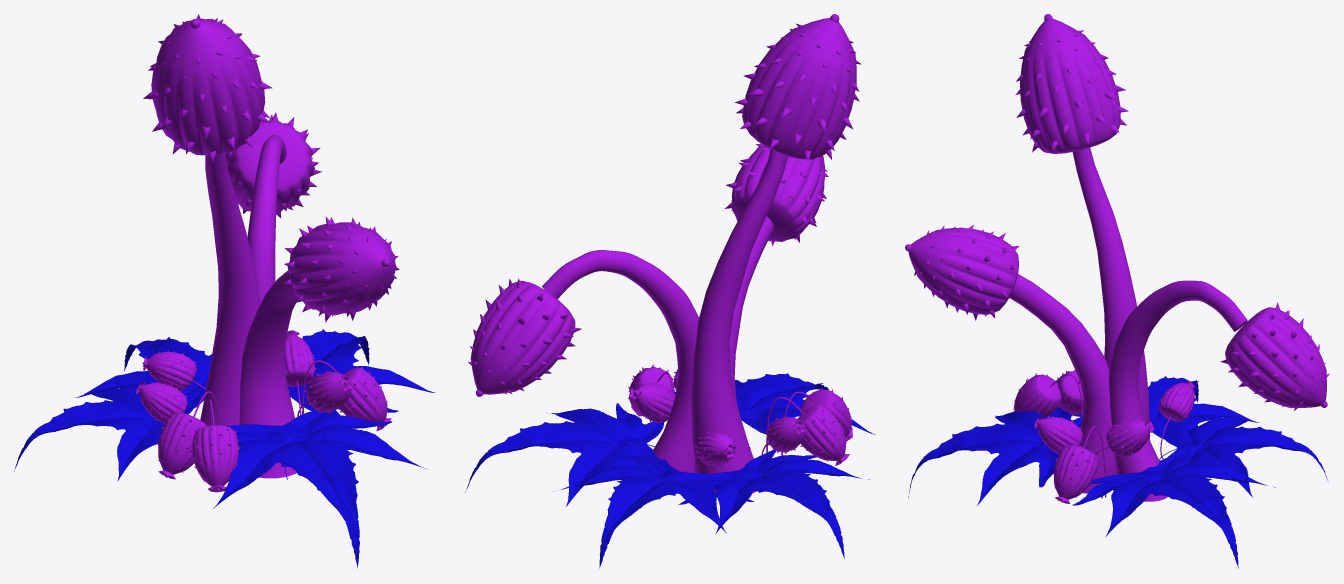
File: Juego_Isla (1).fbx
The picture shows the model from 3 angles, left to right: view 1: azimuth 30°, elevation 25°; view 2: azimuth 150°, elevation 25°; view 3: azimuth 270°, elevation 25°; orthographic projection. The views are drawn at different scales.
Parts seen in each view (by area): view 1: hola019, 71581444__13208P, hola007, hola020, hola005, hola000, 71581466__13489P, hola006, 71581466__13489P001, 71581444__13208P001, hola008, hola009 (+5 smaller); view 2: hola019, hola007, hola000, hola006, 71581466__13489P001, 71581466__13489P, hola020, 71581444__13208P001, 71581444__13208P, hola009, hola005, hola013 (+4 smaller); view 3: hola019, hola000, hola020, hola006, hola005, 71581466__13489P001, hola007, 71581444__13208P, 71581444__13208P001, 71581466__13489P, hola011, hola008 (+4 smaller).
Part boxes in pixels (<box>): hola019: <box>143,14,272,163</box>; 71581444__13208P: <box>213,410,427,568</box>; hola007: <box>200,153,260,449</box>; hola020: <box>282,217,399,322</box>; hola005: <box>239,270,297,478</box>; hola000: <box>225,112,321,218</box>; 71581466__13489P: <box>14,387,193,480</box>; hola006: <box>247,135,286,304</box>; 71581466__13489P001: <box>288,329,435,416</box>; 71581444__13208P001: <box>75,337,211,408</box>; hola008: <box>189,399,240,492</box>; hola009: <box>157,391,220,479</box>; hola019: <box>734,14,861,161</box>; hola007: <box>691,149,787,493</box>; hola000: <box>468,278,581,396</box>; hola006: <box>542,250,698,472</box>; 71581466__13489P001: <box>465,403,670,506</box>; 71581466__13489P: <box>678,449,869,558</box>; hola020: <box>725,143,828,246</box>; 71581444__13208P001: <box>553,455,754,568</box>; 71581444__13208P: <box>674,373,875,434</box>; hola009: <box>766,397,849,465</box>; hola005: <box>729,216,773,411</box>; hola013: <box>629,382,675,423</box>; hola019: <box>1015,14,1128,153</box>; hola000: <box>1220,302,1329,410</box>; hola020: <box>905,225,1019,320</box>; hola006: <box>1109,280,1247,501</box>; hola005: <box>1009,274,1116,493</box>; 71581466__13489P001: <box>1072,455,1275,568</box>; hola007: <box>1072,148,1149,438</box>; 71581444__13208P: <box>908,407,1082,505</box>; 71581444__13208P001: <box>1159,417,1328,497</box>; 71581466__13489P: <box>1073,376,1259,444</box>; hola011: <box>1053,425,1106,503</box>; hola008: <box>1013,373,1082,416</box>.
Bounding box in the file's own units: 99.02 × 128 × 110.
